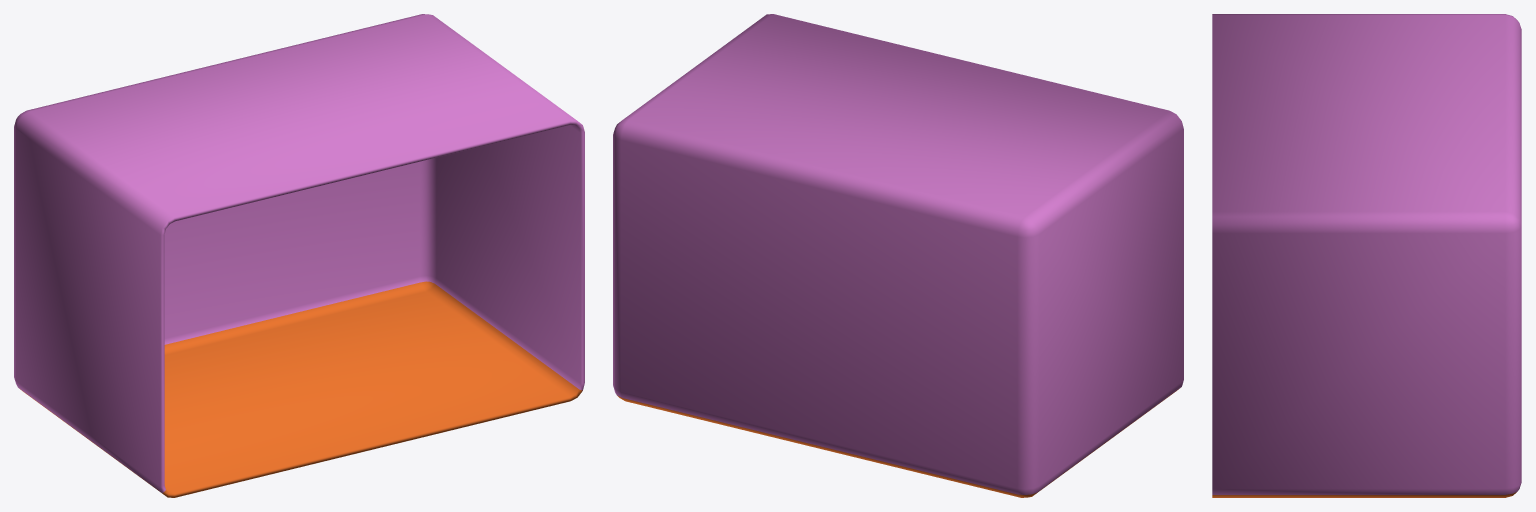
File: room.fbx
3 renders of one model, left to right at view 1: azimuth 30°, elevation 25°; view 2: azimuth 150°, elevation 25°; view 3: azimuth 270°, elevation 25°, orthographic.
Visible parts, largest first — view 1: room; view 2: room; view 3: room.
Boxes of the visible parts, bbox=[...] form: room: bbox=[14, 14, 584, 497]; room: bbox=[613, 14, 1183, 497]; room: bbox=[1212, 14, 1521, 497].
Size of the model in its own units: 408 by 258 by 254.
